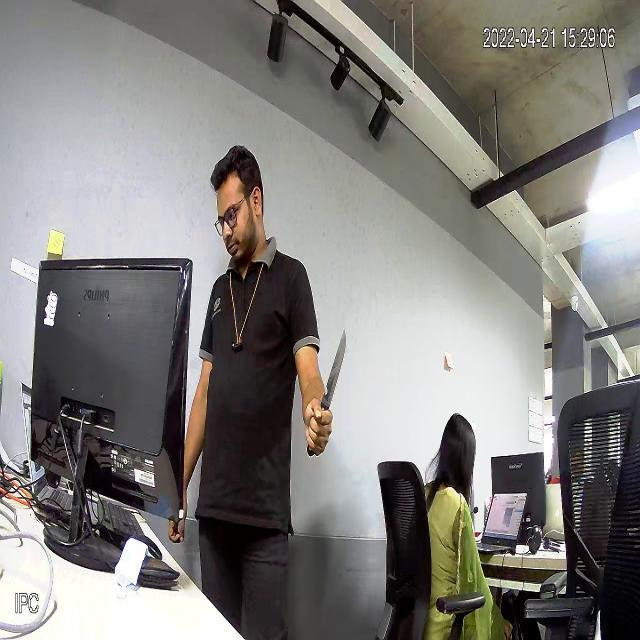Knife: (303, 310, 355, 458)
